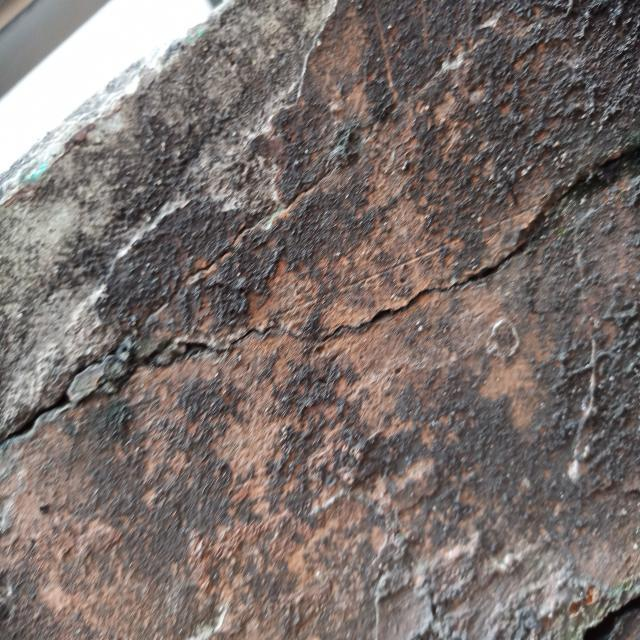diagonal crack: (0, 148, 640, 452)
